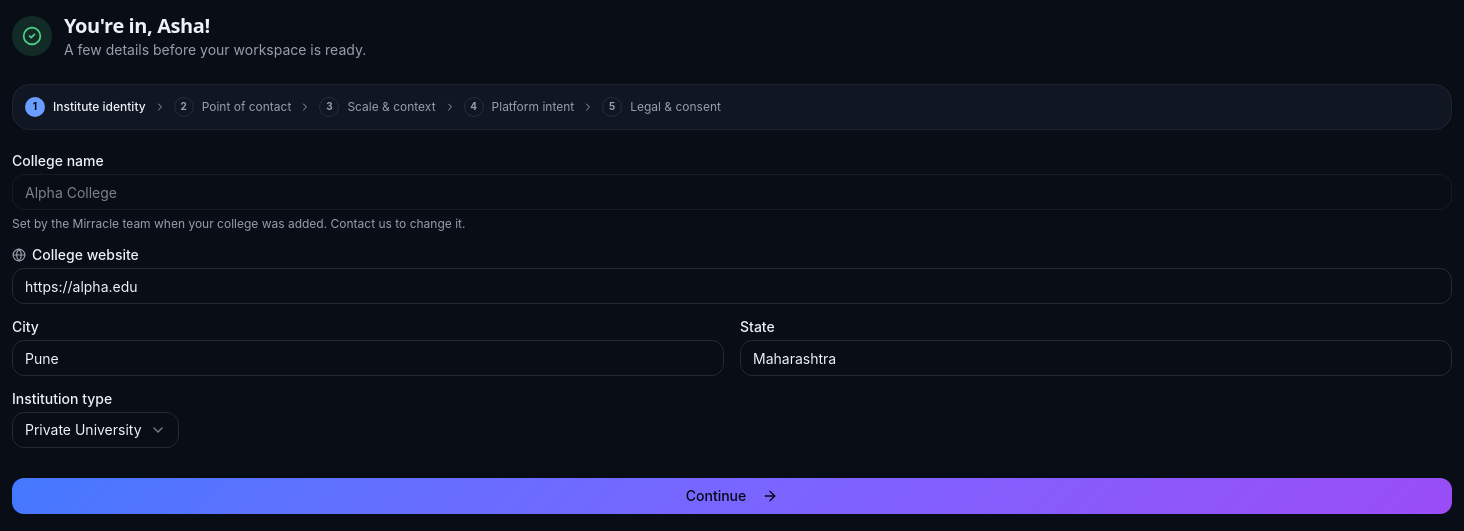
Test: College onboarding page › no longer asks for things that nothing stores (a logo, the placement cycle status)
The width and height of the screenshot is (1464, 531).
Expected: the field showing "Alpha College" is shown, [12,174,1452,210]
Click the button "Continue" at (732, 496), box [12,478,1452,514]
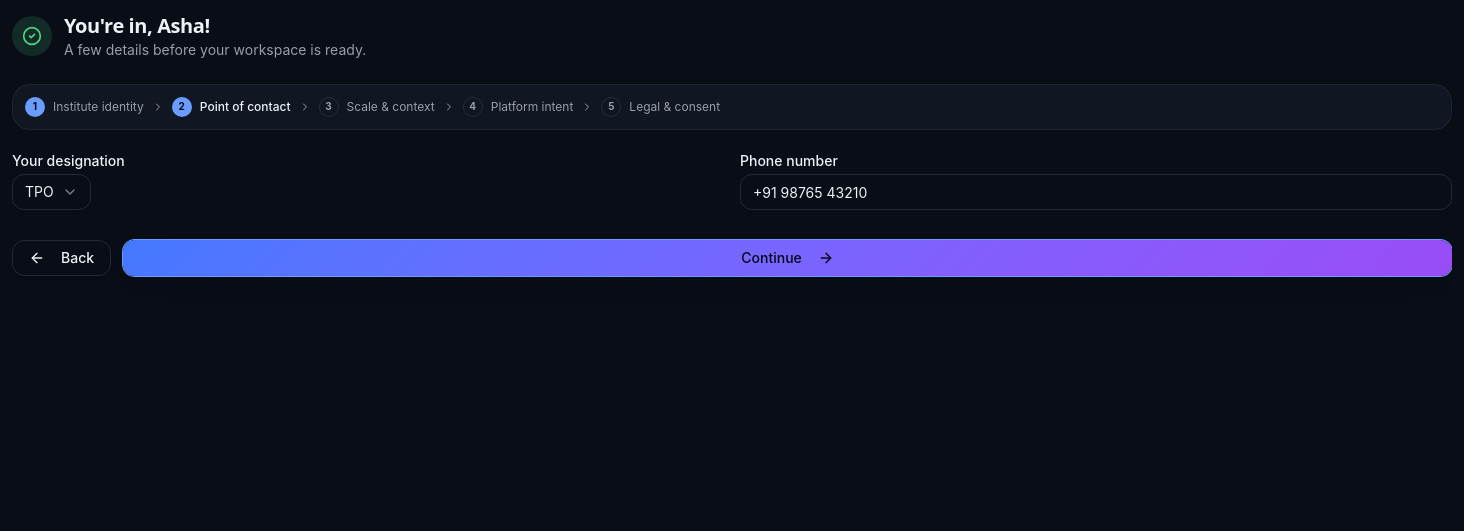
Click the button "Continue" at (788, 258), box [123,240,1452,276]
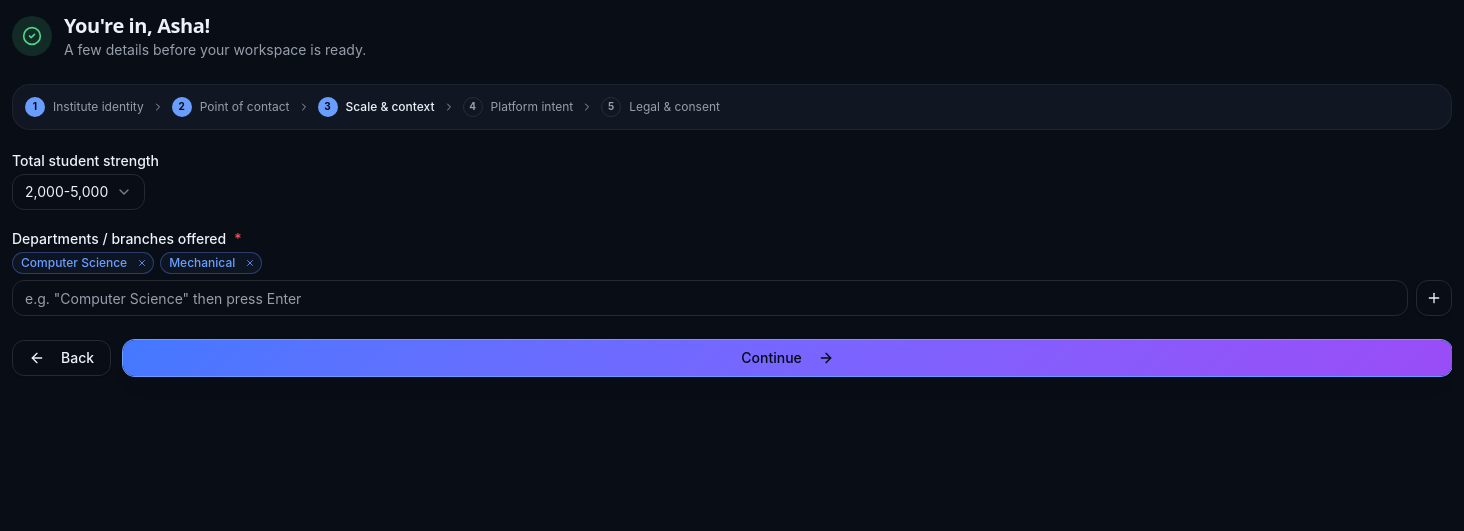
Now the text "Total student strength" is shown, box [12,152,159,169]
